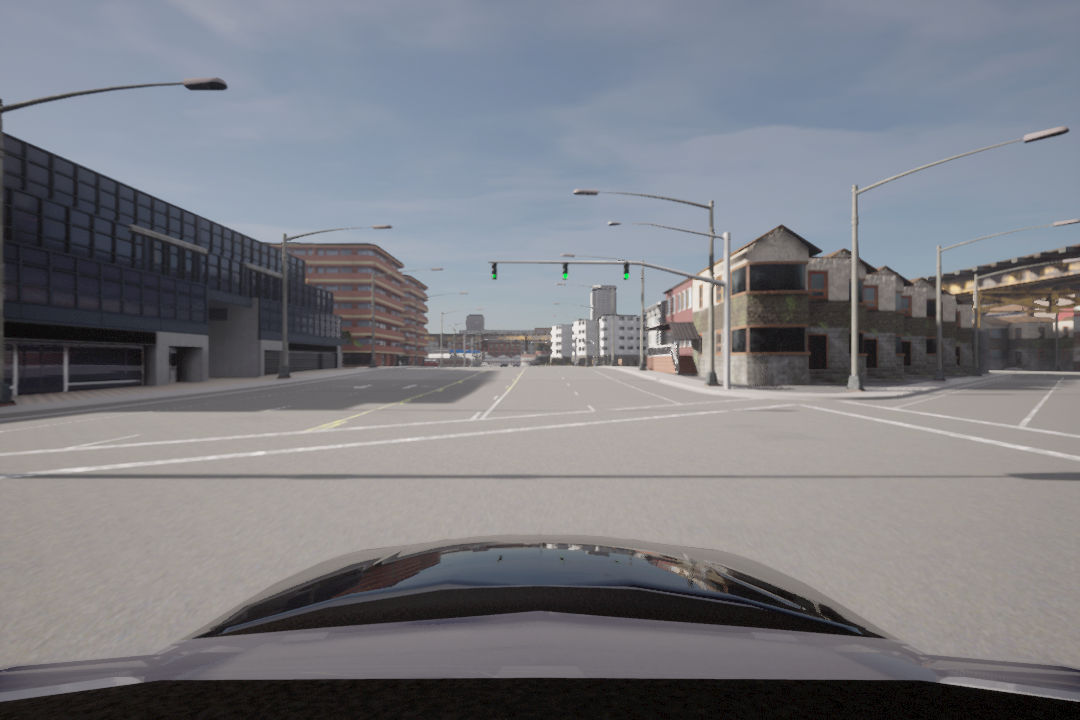TrafficLight: (622, 261, 631, 283), (562, 260, 571, 280), (491, 261, 500, 281)
